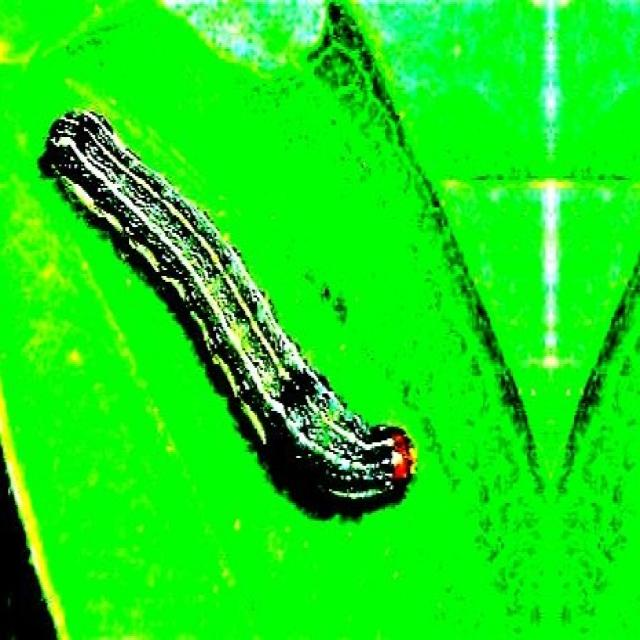Armyworm: (51, 98, 423, 539)
